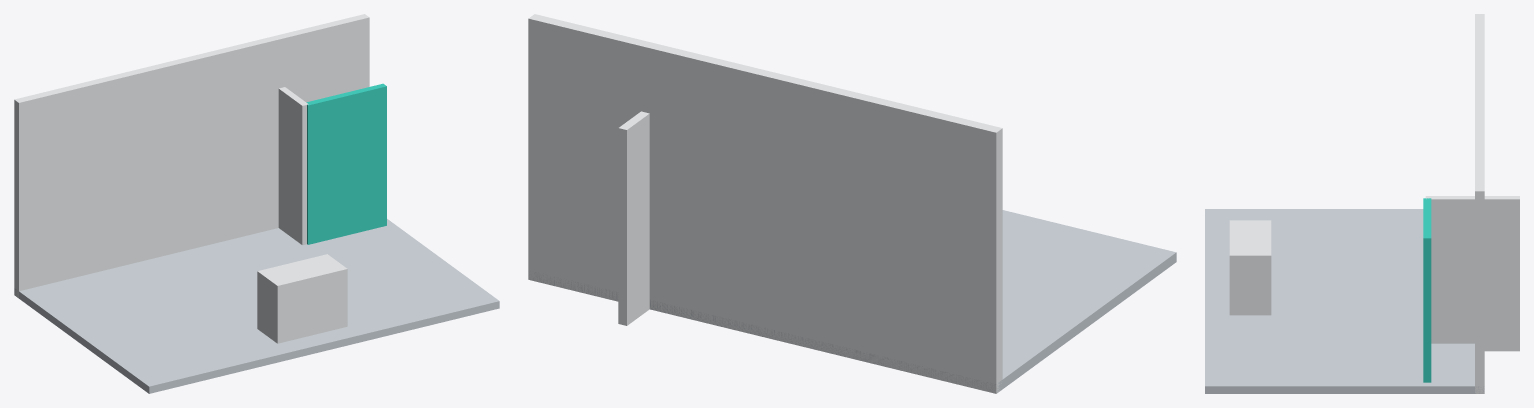
3 views of the same model, side by side, from view 1: azimuth 30°, elevation 25°; view 2: azimuth 150°, elevation 25°; view 3: azimuth 270°, elevation 25° (orthographic). The views are drawn at different scales.
Parts seen in each view (by area): view 1: Exhibition Booth Concept; view 2: Exhibition Booth Concept; view 3: Exhibition Booth Concept.
Part boxes in pixels (box(x1,y1,x2,y2)): Exhibition Booth Concept: box(14, 14, 499, 393); Exhibition Booth Concept: box(528, 14, 1176, 393); Exhibition Booth Concept: box(1205, 14, 1519, 393).
Size of the model in its own units: 6 by 3.2 by 4.51.
